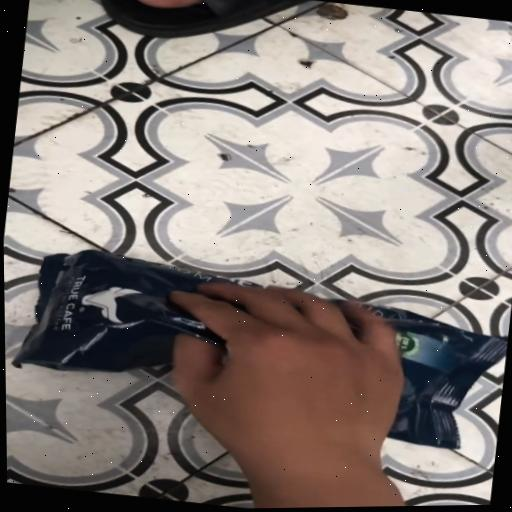cafe_hat: (15, 250, 230, 372), (363, 305, 508, 448)
